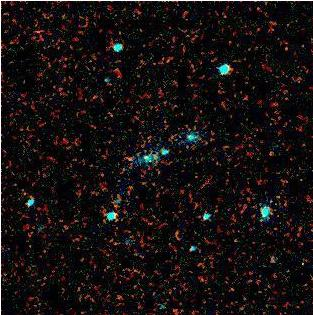star: (117, 146, 147, 176)
